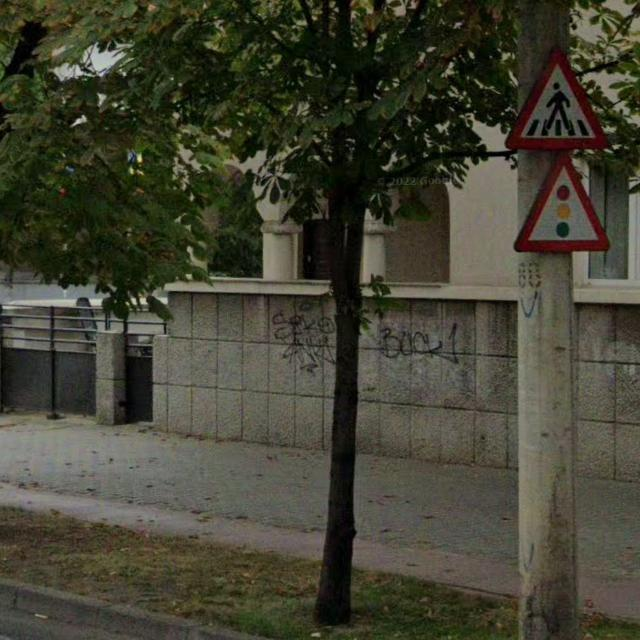warn_crosswalk: (506, 53, 610, 152)
